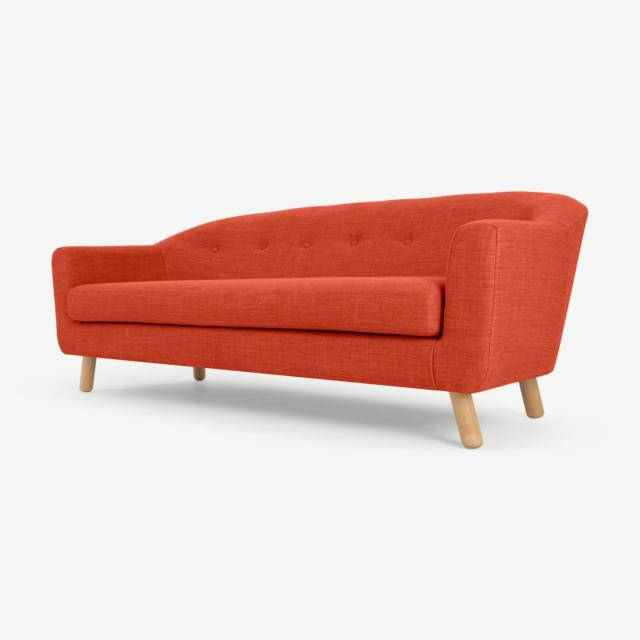Soffa: (36, 185, 590, 458)
